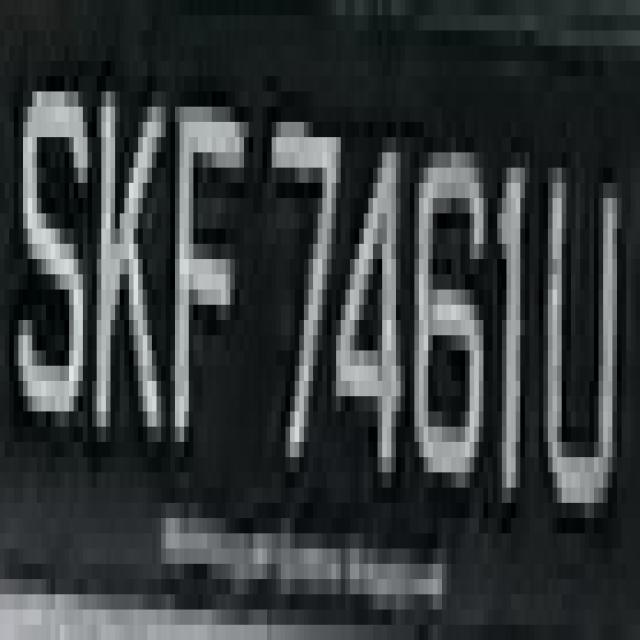1: (497, 137, 539, 549)
4: (341, 61, 405, 472)
6: (405, 107, 493, 518)
7: (262, 91, 341, 534)
F: (161, 61, 244, 518)
K: (83, 30, 166, 503)
S: (9, 46, 88, 411)
U: (548, 137, 626, 549)
